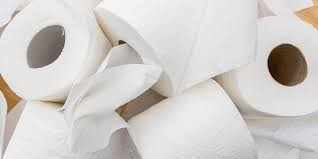paper: (95, 1, 287, 95), (1, 1, 123, 110), (118, 73, 268, 159), (223, 14, 318, 123)
